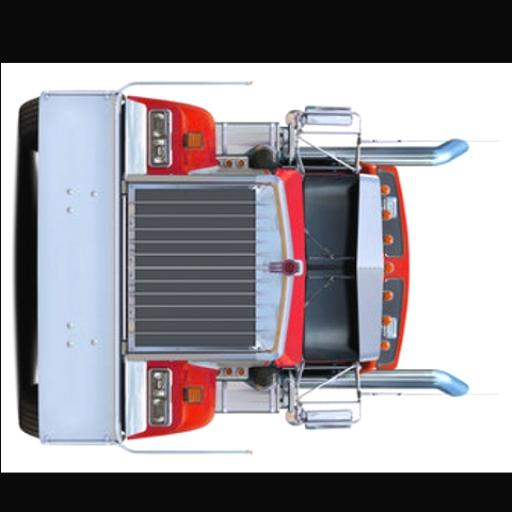truck: (17, 74, 473, 452)
